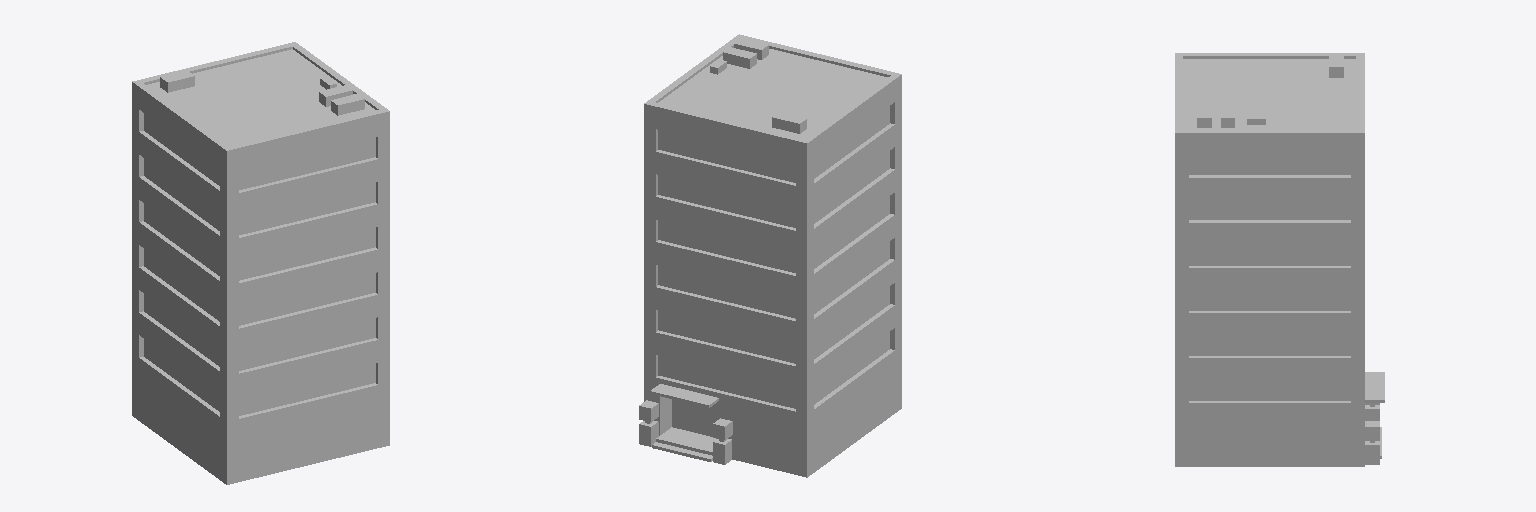
File: edificio_azul.obj
The picture shows the model from 3 angles: view 1: azimuth 30°, elevation 25°; view 2: azimuth 150°, elevation 25°; view 3: azimuth 270°, elevation 25°; orthographic projection.
Parts seen in each view (by area): view 1: office_large_mesh; view 2: office_large_mesh; view 3: office_large_mesh.
Boxes of the visible parts, <box> form: office_large_mesh: <box>132,42,389,484</box>; office_large_mesh: <box>639,34,901,477</box>; office_large_mesh: <box>1175,53,1384,466</box>.
Bounding box in the file's own units: 13.62 × 27.24 × 15.17.